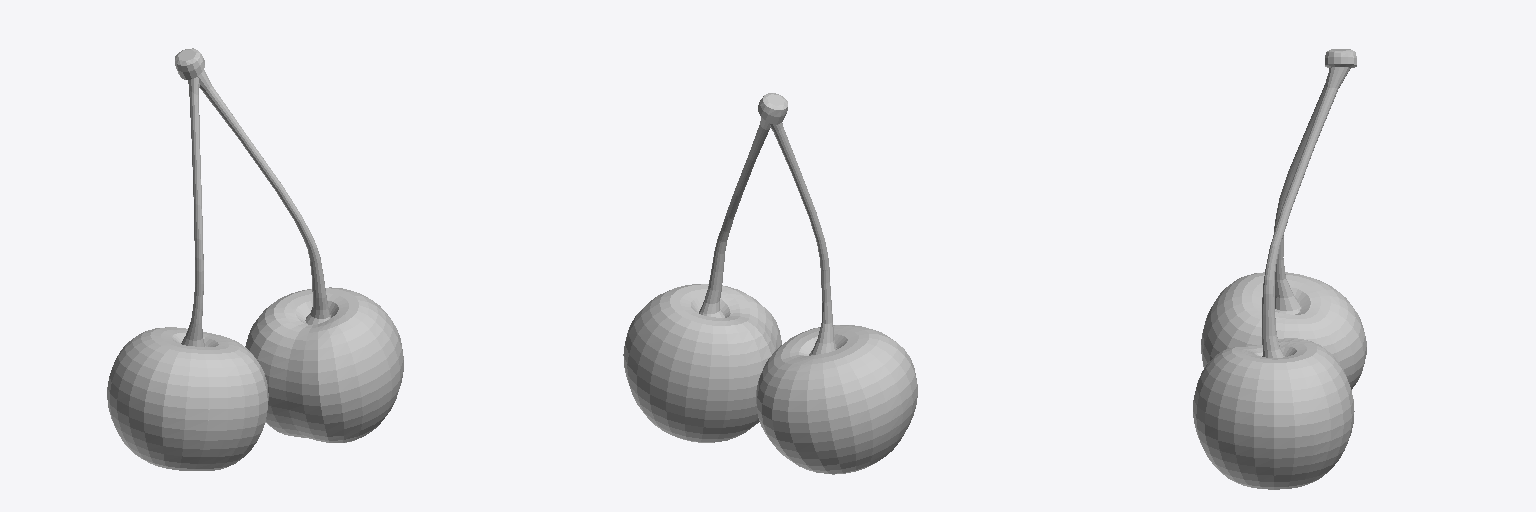
The model's file is cherry.obj.
3 views of the same model, side by side, from view 1: azimuth 30°, elevation 25°; view 2: azimuth 150°, elevation 25°; view 3: azimuth 270°, elevation 25° (orthographic).
Visible parts, largest first — view 1: pSphere2, pSphere1, pCylinder1, pCylinder2; view 2: pSphere2, pSphere1, pCylinder1, pCylinder2; view 3: pSphere1, pSphere2, pCylinder1, pCylinder2.
Part boxes in pixels (x1,y1,x2,y2): pSphere2: (107,327,268,470); pSphere1: (245,287,403,442); pCylinder1: (175,48,330,324); pCylinder2: (181,77,205,346); pSphere2: (756,325,917,474); pSphere1: (623,284,781,442); pCylinder1: (699,93,787,317); pCylinder2: (770,123,836,355); pSphere1: (1193,338,1354,489); pSphere2: (1201,272,1366,389); pCylinder1: (1262,49,1356,357); pCylinder2: (1274,68,1329,314).
Bounding box in the file's own units: 3.77 × 5 × 2.08.